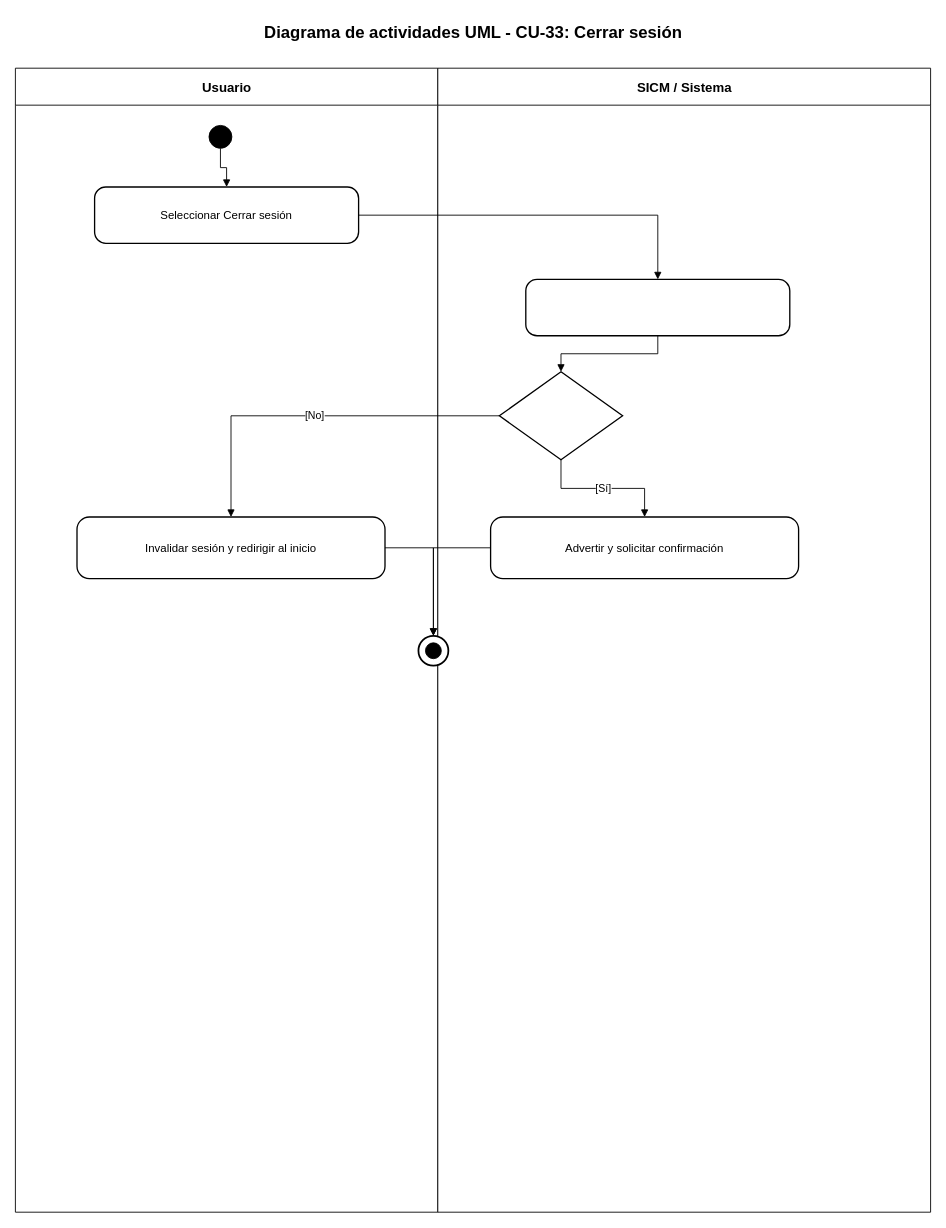
Some shapes in this 946 by 1228 pixel diagram are drawn without their labels. The shapes that lost their labels are listed below. From the top down, each one's centre as x and y in pixels, then its label:
At (x=657, y=307): "Comprobar operaciones pendientes".
At (x=560, y=415): "¿Hay cambios sin guardar?".
